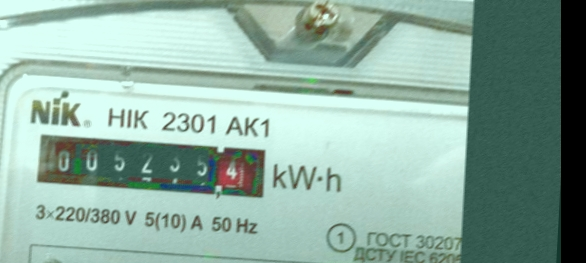0: (54, 148, 71, 174), (83, 147, 98, 173)
2: (138, 149, 153, 175)
3: (166, 148, 181, 174)
4: (223, 156, 239, 182)
5: (193, 151, 209, 179), (110, 148, 126, 174)
screen: (26, 125, 277, 207)
